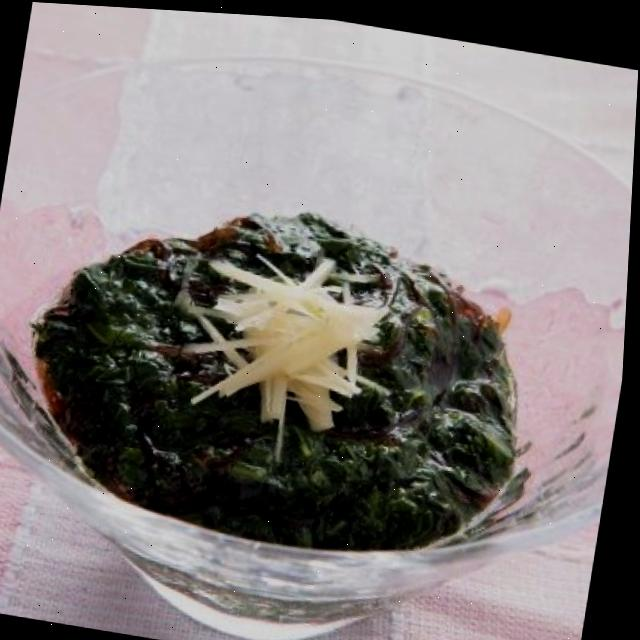蔬菜料理: (0, 55, 624, 627)
